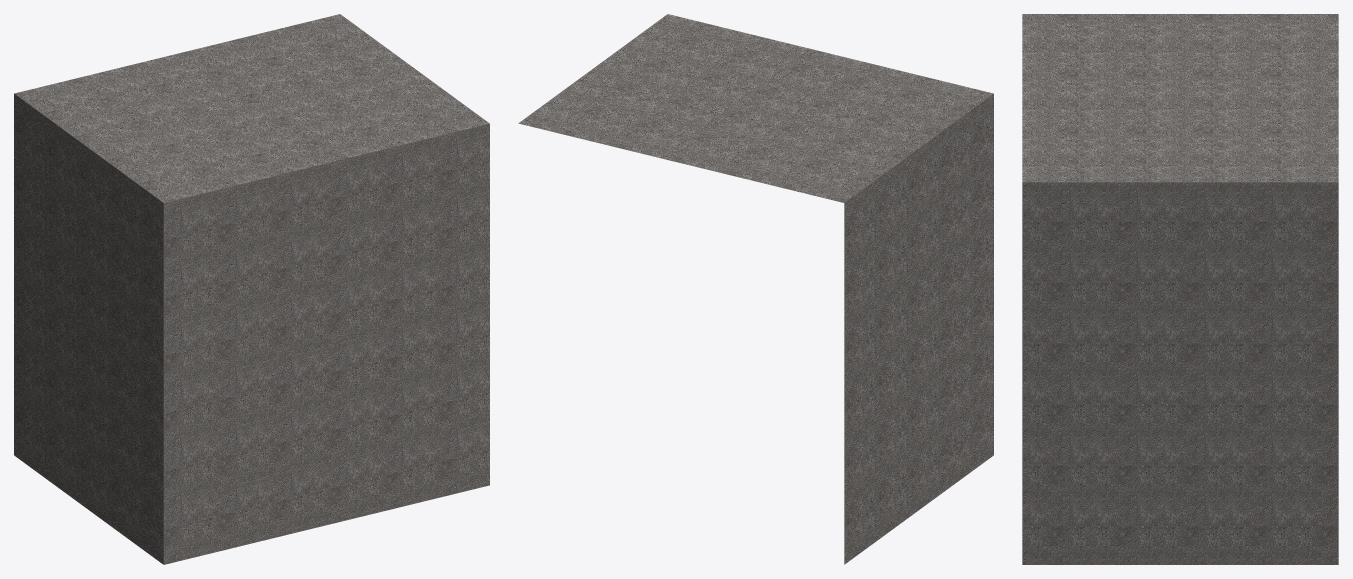
File: jc-sj-597-geode.glb
The picture shows the model from 3 angles, left to right: view 1: azimuth 30°, elevation 25°; view 2: azimuth 150°, elevation 25°; view 3: azimuth 270°, elevation 25°; orthographic projection. The views are drawn at different scales.
Parts seen in each view (by area): view 1: Node; view 2: Node; view 3: Node.
Part boxes in pixels (left/top/right/bottom): Node: left=14, top=14, right=489, bottom=564; Node: left=518, top=14, right=993, bottom=564; Node: left=1022, top=14, right=1338, bottom=564.
Size of the model in its own units: 0.7158 by 0.7592 by 0.5689.
1 material, 1 textured.
